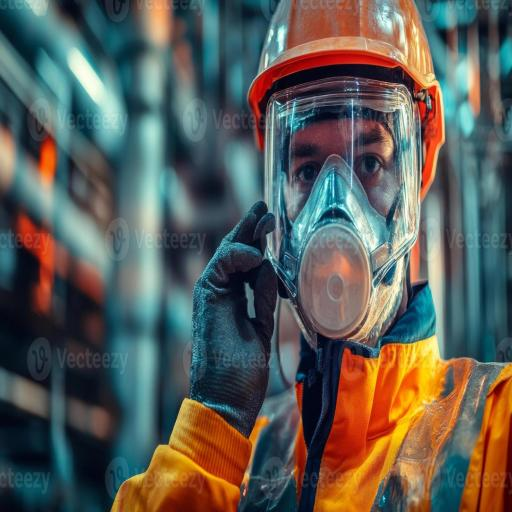mask: (264, 160, 410, 350)
